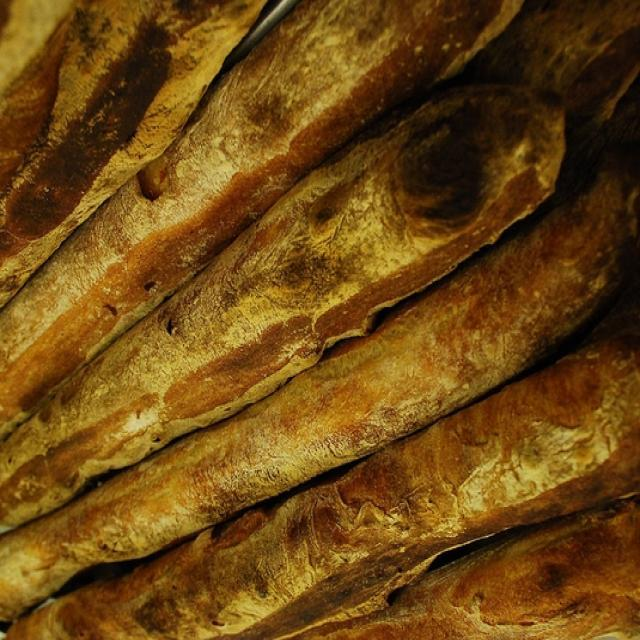Bread: (6, 1, 635, 634)
